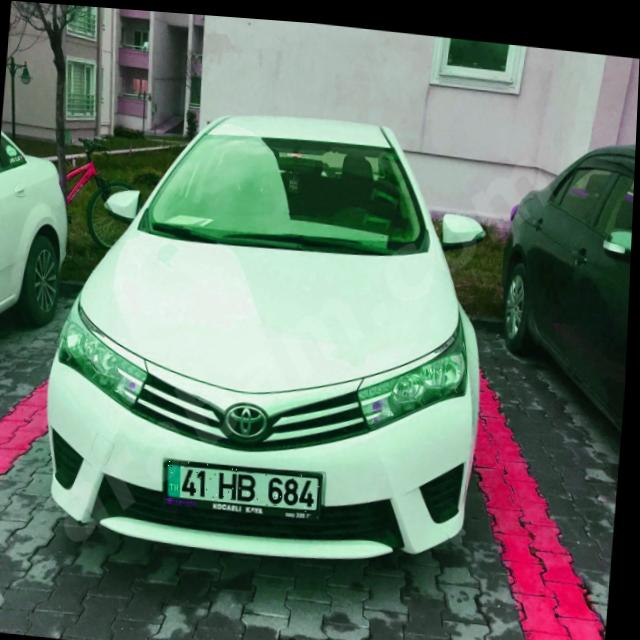license_plate: (168, 456, 325, 508)
